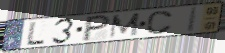3: (49, 17, 77, 45)
C: (145, 10, 174, 35)
I: (186, 6, 200, 34)
L: (24, 21, 46, 46)
M: (107, 12, 141, 40)
P: (80, 14, 113, 43)
